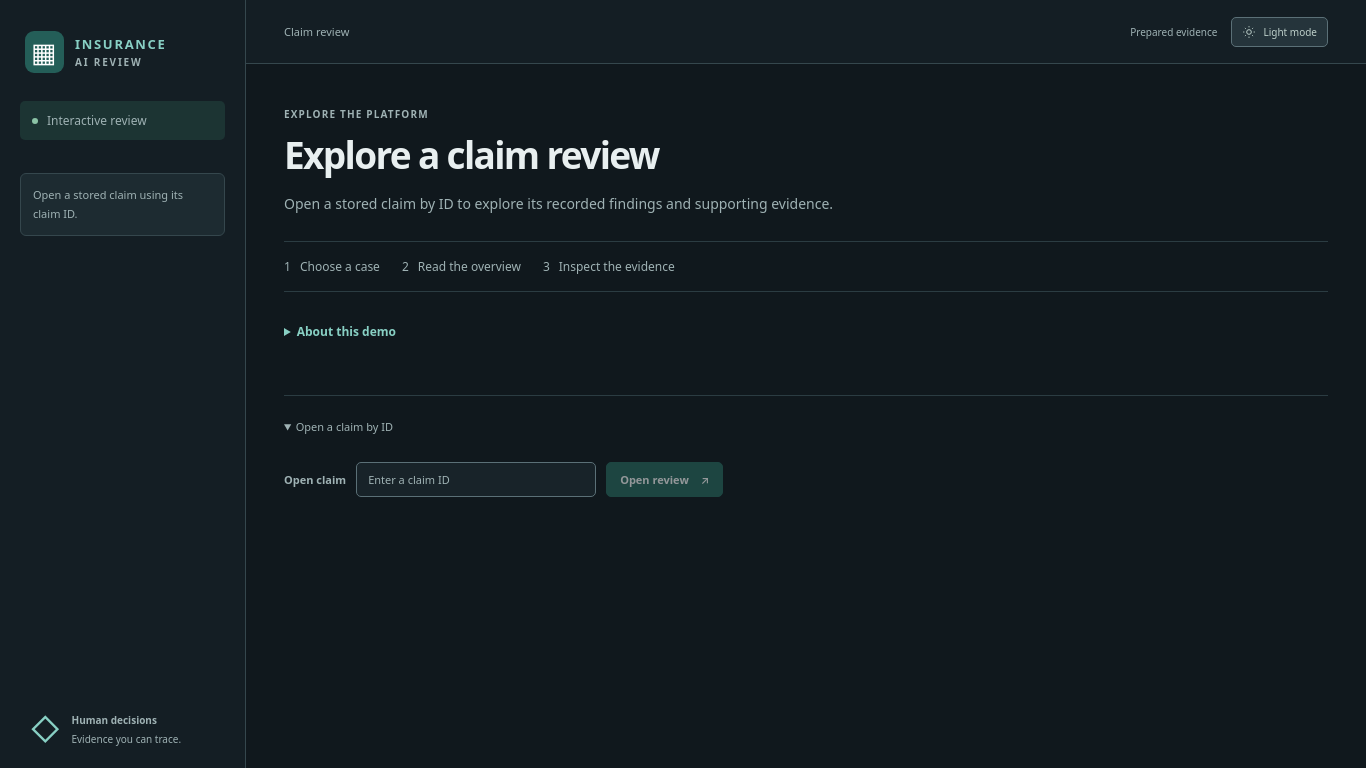
Test: Review API integration › keeps a live backend HTTP 503 distinct from a stopped backend
Expected: the heading "Explore a claim review" is shown, [284,128,659,180]
Step 1. Type "UNKNOWN" into the field labelled "Open claim" → (476, 480), box [356,462,596,497]
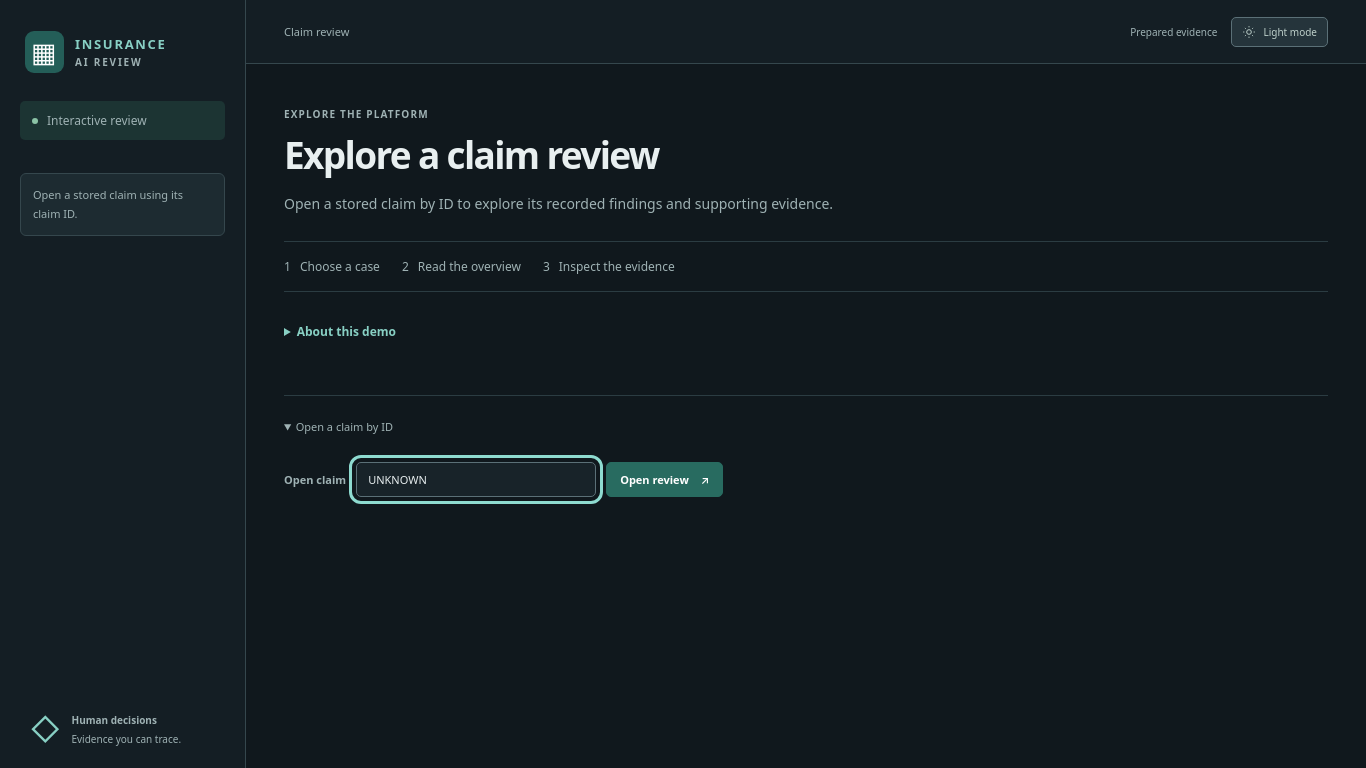
Step 2. Click the button "Open review ↗" → (665, 480), box [606,462,723,497]
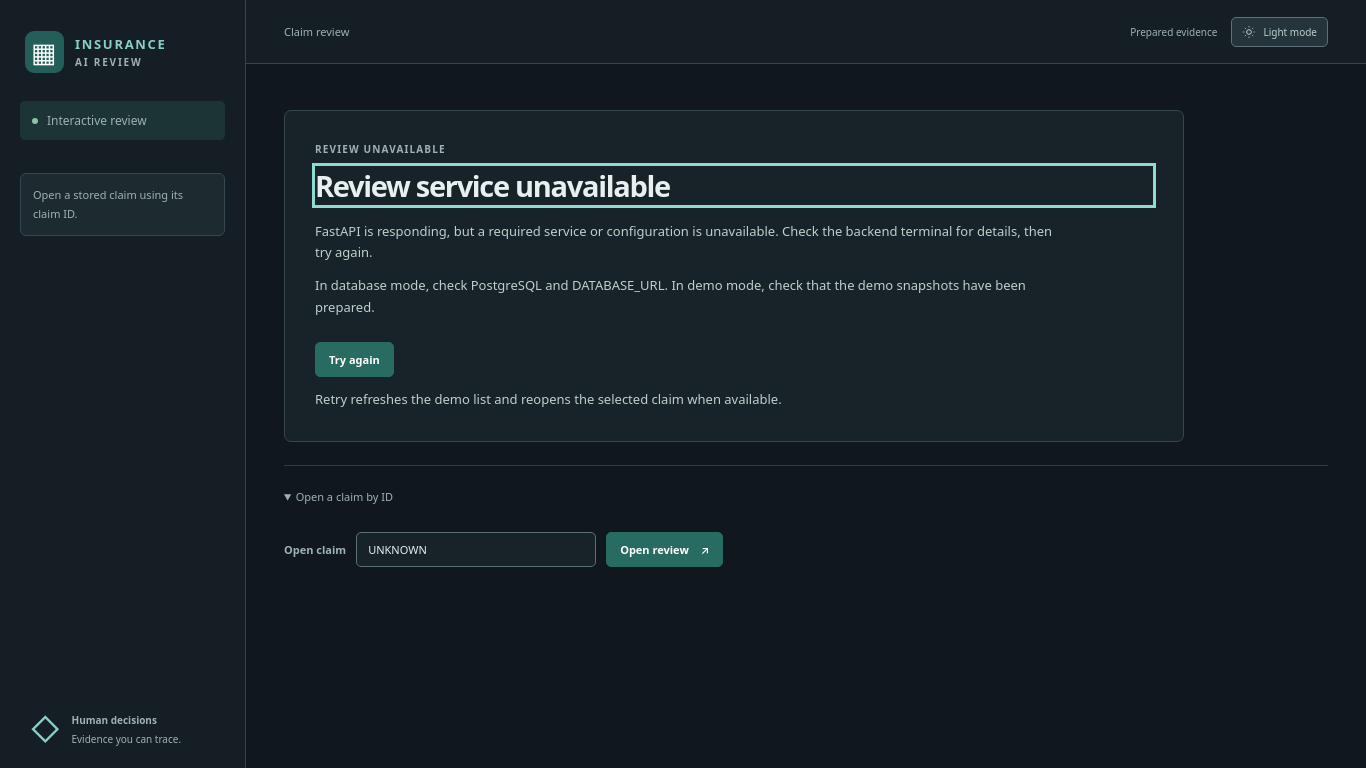
Now the heading "Review service unavailable" is shown, box [315,166,670,204]
Now the message shows "FastAPI is responding", box [315,222,1052,261]
